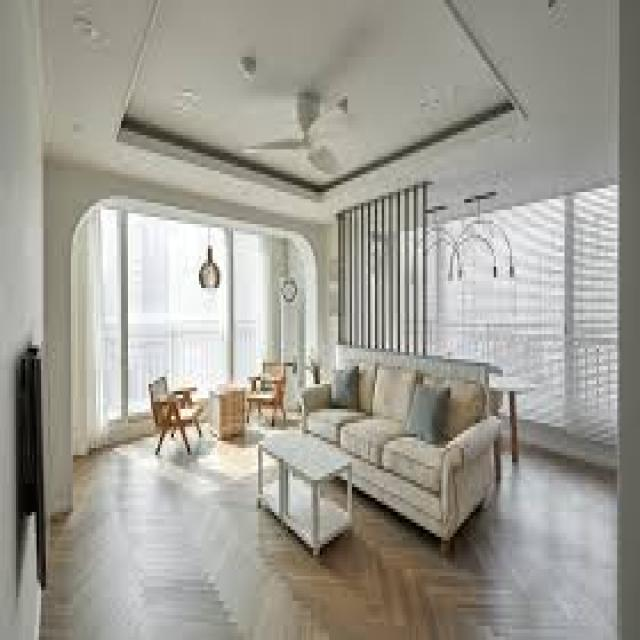Chair: (145, 375, 208, 461), (247, 356, 292, 434)
Sofa: (308, 357, 504, 557)
Table: (258, 424, 356, 555), (214, 380, 248, 442)
window: (73, 198, 287, 379), (373, 230, 619, 354)
